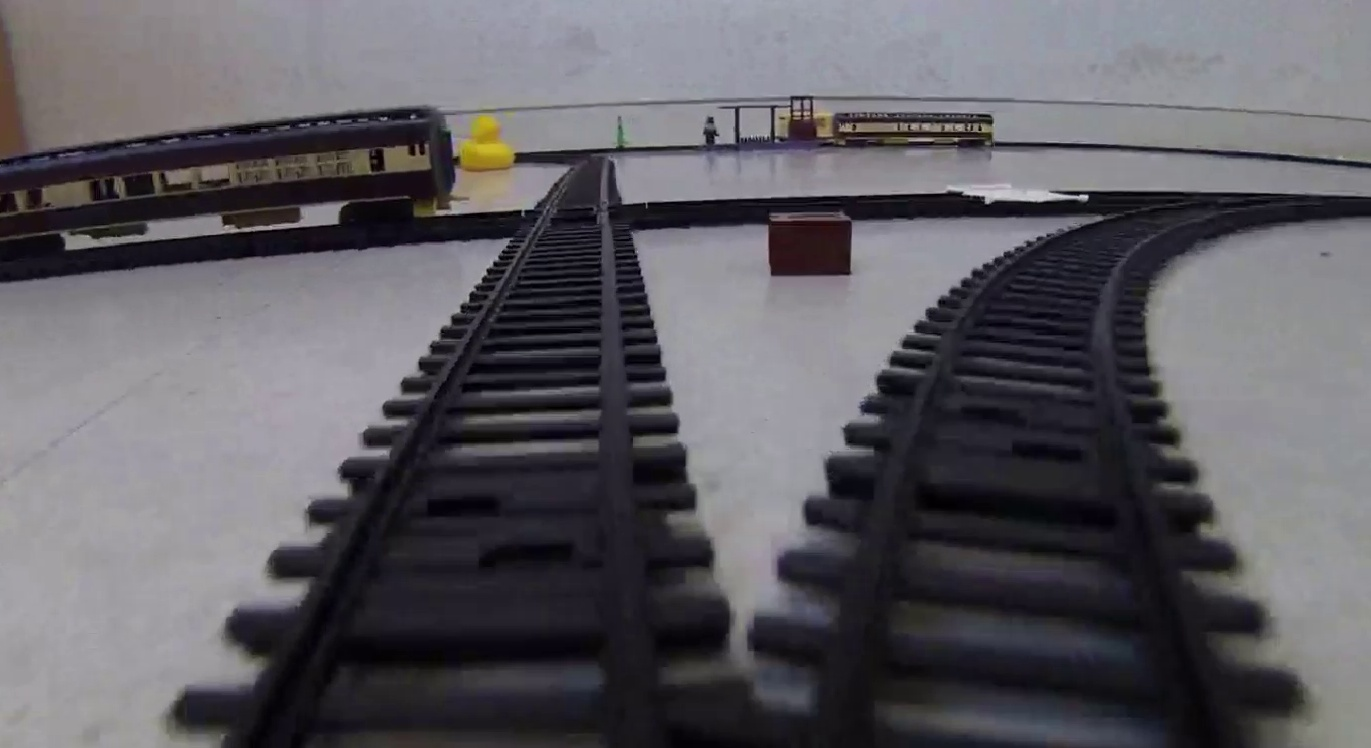box: (767, 213, 853, 281)
web: (947, 181, 1091, 207)
